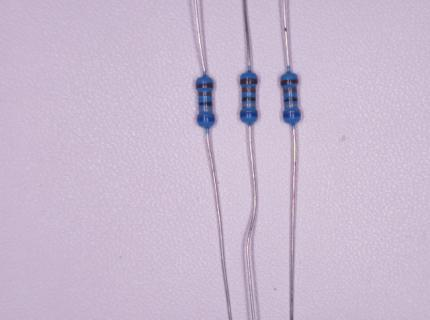Black band: (284, 96, 298, 102), (198, 101, 213, 106), (242, 97, 255, 102)
Blue band: (283, 111, 302, 119), (240, 112, 259, 118), (197, 117, 216, 122)
Brown band: (196, 82, 214, 89), (240, 78, 258, 85), (281, 79, 299, 86)
Grey band: (284, 103, 298, 109), (242, 103, 256, 108), (198, 108, 213, 112)
Orange band: (283, 87, 298, 94), (241, 87, 256, 93), (198, 91, 212, 97)
